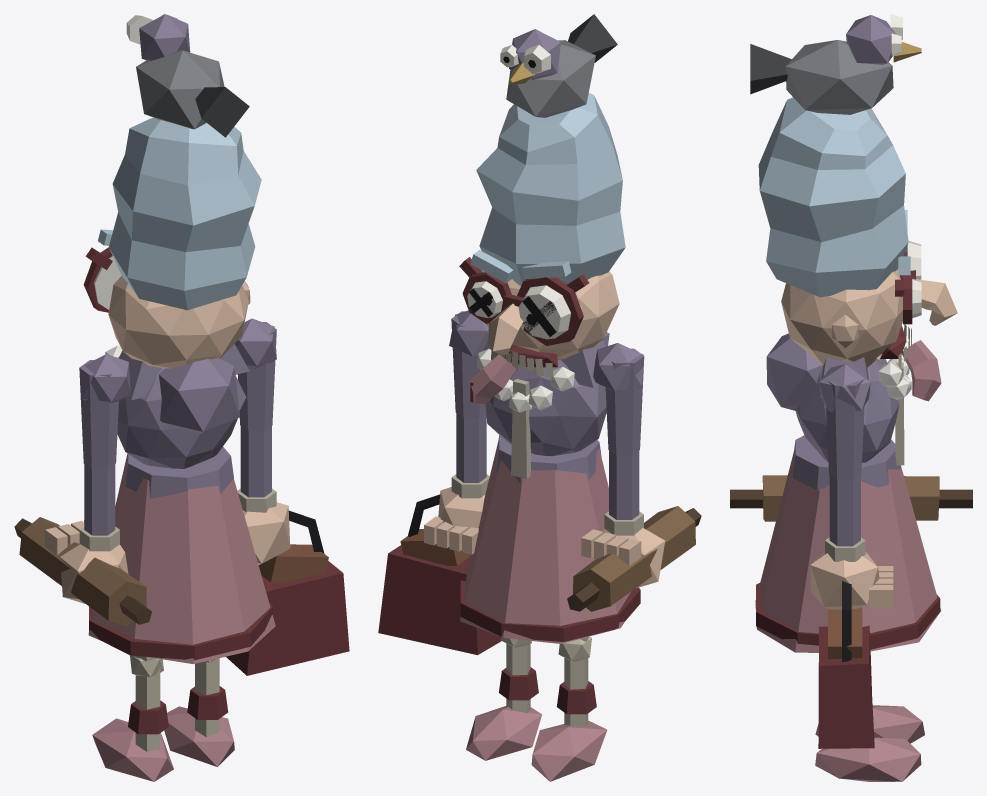
File: gran.glb
3 renders of one model, left to right at view 1: azimuth 30°, elevation 25°; view 2: azimuth 150°, elevation 25°; view 3: azimuth 270°, elevation 25°, orthographic. The views are drawn at different scales.
Parts seen in each view (by area): view 1: head, pelvis, forearm_r, chest, forearm_l, shin_l, shin_r, upper_arm_l, upper_arm_r; view 2: head, pelvis, forearm_r, forearm_l, chest, shin_l, shin_r, upper_arm_l, upper_arm_r, head_ko; view 3: head, pelvis, forearm_r, chest, upper_arm_r, forearm_l, shin_r, shin_l, head_ko.
Part boxes in pixels (x1,y1,x2,y2): head: (83,14,261,368); pelvis: (88,447,275,664); forearm_r: (226,426,349,675); chest: (105,344,249,468); forearm_l: (14,464,151,625); shin_l: (92,655,173,781); shin_r: (164,658,234,766); upper_arm_l: (79,354,130,469); upper_arm_r: (235,318,276,431); head: (459,14,625,377); pelvis: (460,435,640,643); forearm_r: (378,413,501,655); forearm_l: (567,450,701,611); chest: (476,332,609,478); shin_l: (531,636,607,781); shin_r: (466,637,542,760); upper_arm_l: (593,343,644,455); upper_arm_r: (449,310,488,418); head_ko: (468,288,556,403); head: (750,14,957,368); pelvis: (755,435,941,652); forearm_r: (810,475,893,748); chest: (766,333,911,465); upper_arm_r: (819,364,870,479); forearm_l: (730,475,972,521); shin_r: (815,737,921,781); shin_l: (815,705,924,743); head_ko: (902,340,941,401).
Size of the model in its own units: 1.01 by 2.67 by 0.78.
